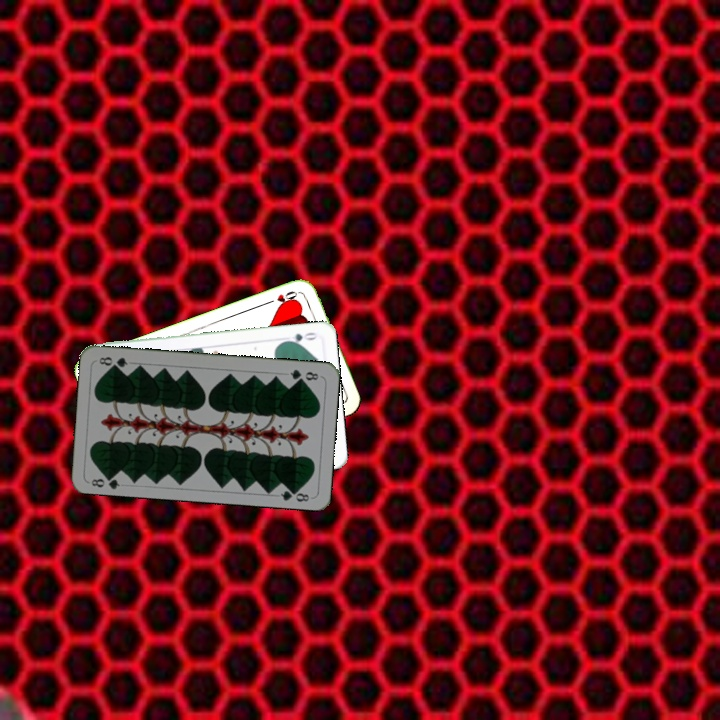G8: (87, 470, 122, 491), (286, 365, 321, 384)
GO: (280, 328, 319, 347)
HO: (265, 287, 305, 310)
